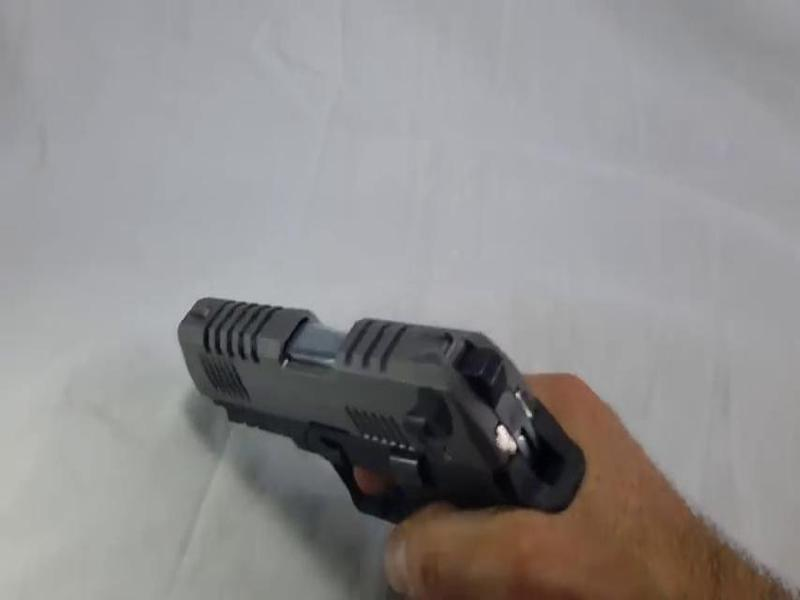Pistola: (141, 248, 640, 565)
